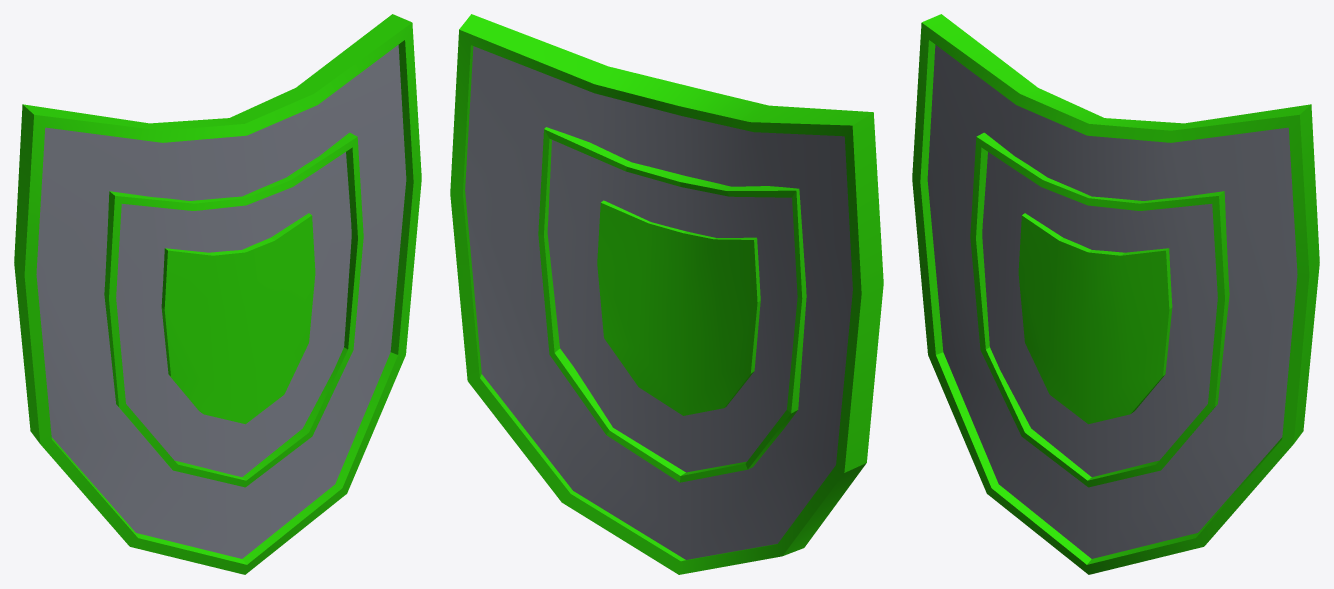
Rendered from Shield_Powerup.fbx.
3 views of the same model, side by side, from view 1: azimuth 30°, elevation 25°; view 2: azimuth 150°, elevation 25°; view 3: azimuth 330°, elevation 25° (orthographic). The views are drawn at different scales.
Visible parts, largest first — view 1: Shield_Powerup; view 2: Shield_Powerup; view 3: Shield_Powerup.
Boxes of the visible parts, left/top/right/bottom form: Shield_Powerup: left=14, top=14, right=421, bottom=574; Shield_Powerup: left=450, top=14, right=883, bottom=574; Shield_Powerup: left=912, top=14, right=1319, bottom=574.
Bounding box in the file's own units: 6.97 × 8.22 × 1.2.
